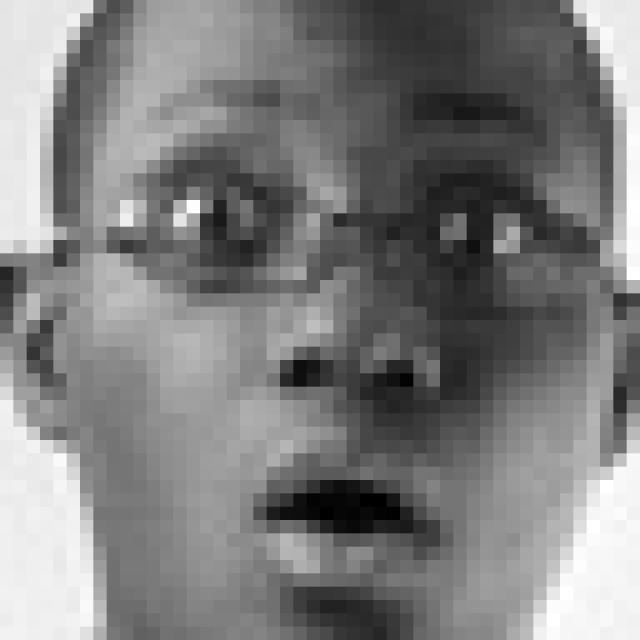surprise: (88, 74, 563, 614)
